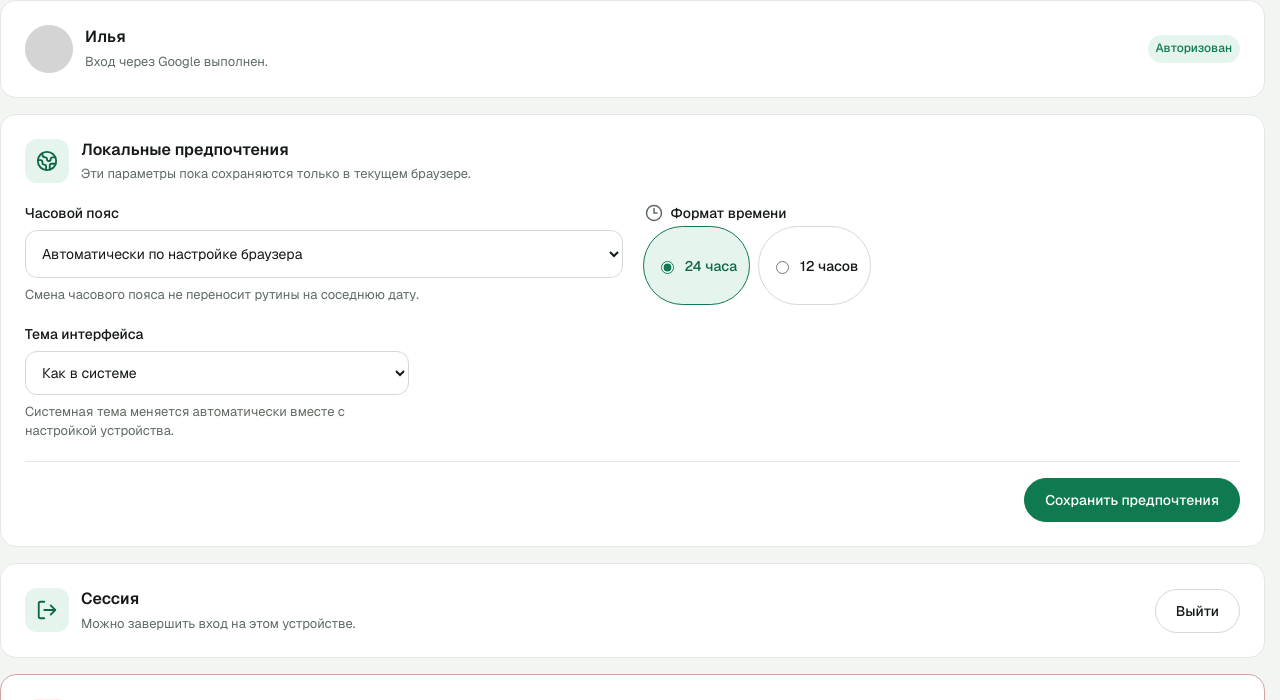
ProfileSettings › завершает вход и уходит на страницу логина
Expected: the heading "Илья" is shown, [85,26,126,47]
Click the button "Выйти". click: {"x": 1197, "y": 611}
box: [1155,589,1240,633]
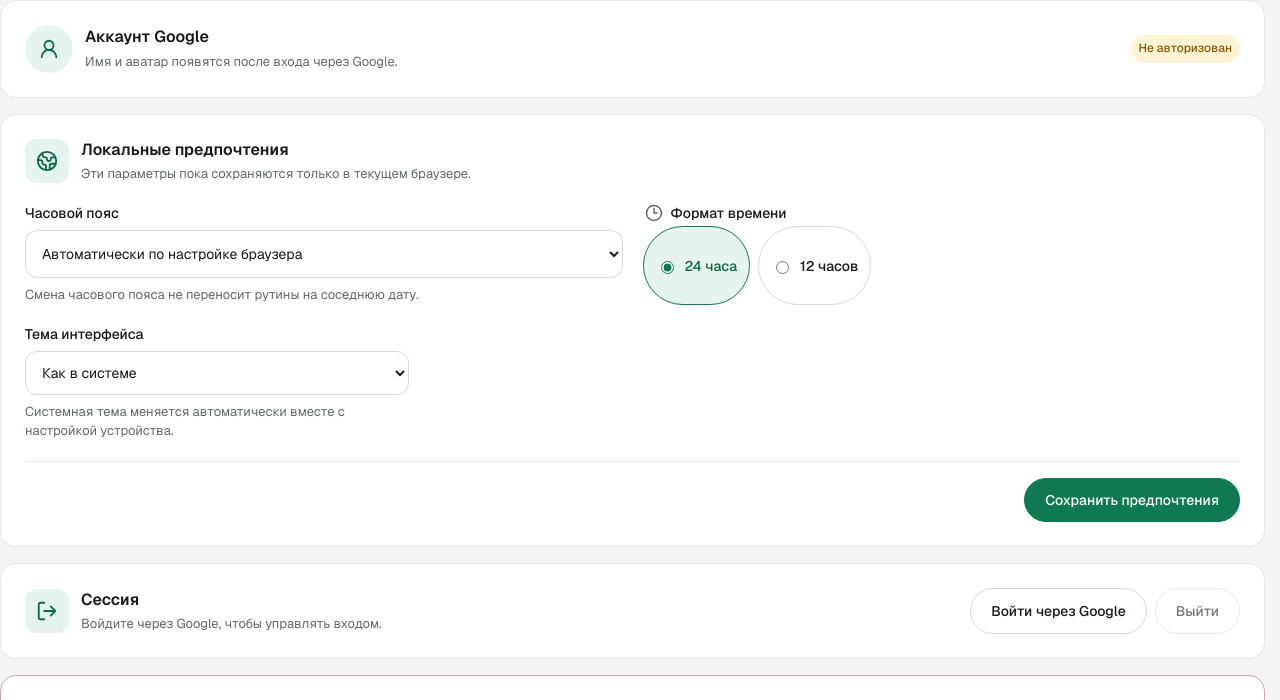
Now the text "Не авторизован" is shown, box [1131,35,1240,63]
